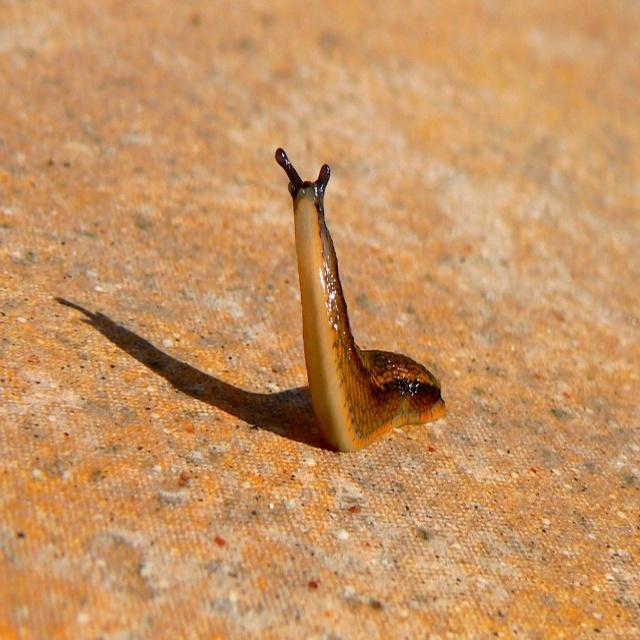Snail: (274, 147, 443, 453)
